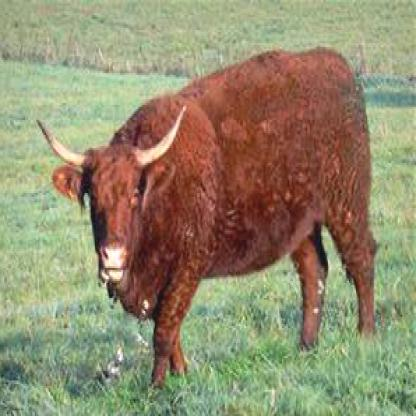cow: (34, 46, 378, 392)
